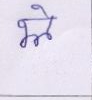o_matra: (37, 4, 56, 40)
